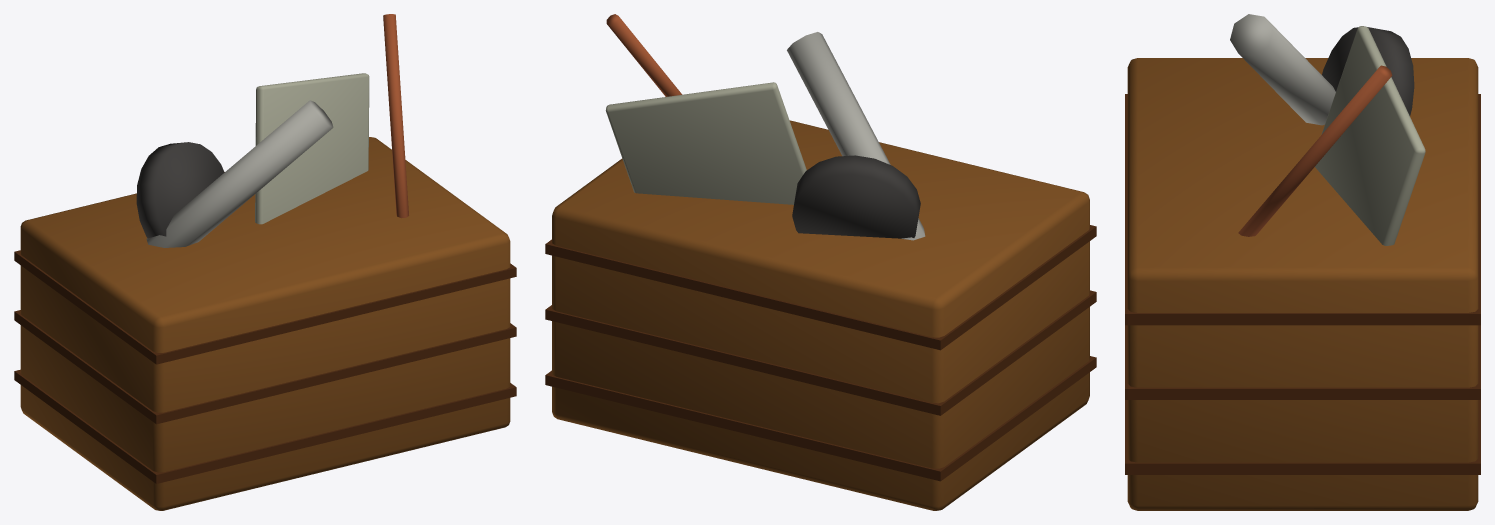
Rendered from scrap.glb.
3 views of the same model, side by side, from view 1: azimuth 30°, elevation 25°; view 2: azimuth 150°, elevation 25°; view 3: azimuth 270°, elevation 25° (orthographic). The views are drawn at different scales.
Visible parts, largest first — view 1: crate, plate, pipe, slat1, slat0, slat2, wheel, rebar; view 2: crate, plate, wheel, slat0, slat1, slat2, pipe, rebar; view 3: crate, plate, slat2, pipe, slat0, slat1, rebar, wheel.
Boxes of the visible parts, x1,y1,x2,y2 form: crate: [20, 137, 510, 510]; plate: [255, 73, 369, 224]; pipe: [146, 100, 333, 247]; slat1: [14, 310, 516, 424]; slat0: [14, 369, 516, 483]; slat2: [14, 250, 516, 364]; wheel: [136, 142, 224, 238]; rebar: [383, 14, 408, 218]; crate: [552, 120, 1089, 510]; plate: [605, 82, 806, 204]; wheel: [792, 155, 920, 238]; slat0: [545, 356, 1096, 481]; slat1: [545, 290, 1096, 415]; slat2: [545, 225, 1096, 350]; pipe: [787, 32, 925, 240]; rebar: [606, 14, 681, 96]; crate: [1127, 58, 1478, 510]; plate: [1315, 26, 1425, 245]; slat2: [1125, 94, 1480, 325]; pipe: [1230, 14, 1335, 125]; slat0: [1125, 400, 1480, 474]; slat1: [1125, 325, 1480, 399]; rebar: [1238, 65, 1392, 236]; wheel: [1322, 27, 1414, 115].
Size of the model in its own units: 0.505 by 0.4644 by 0.345.
